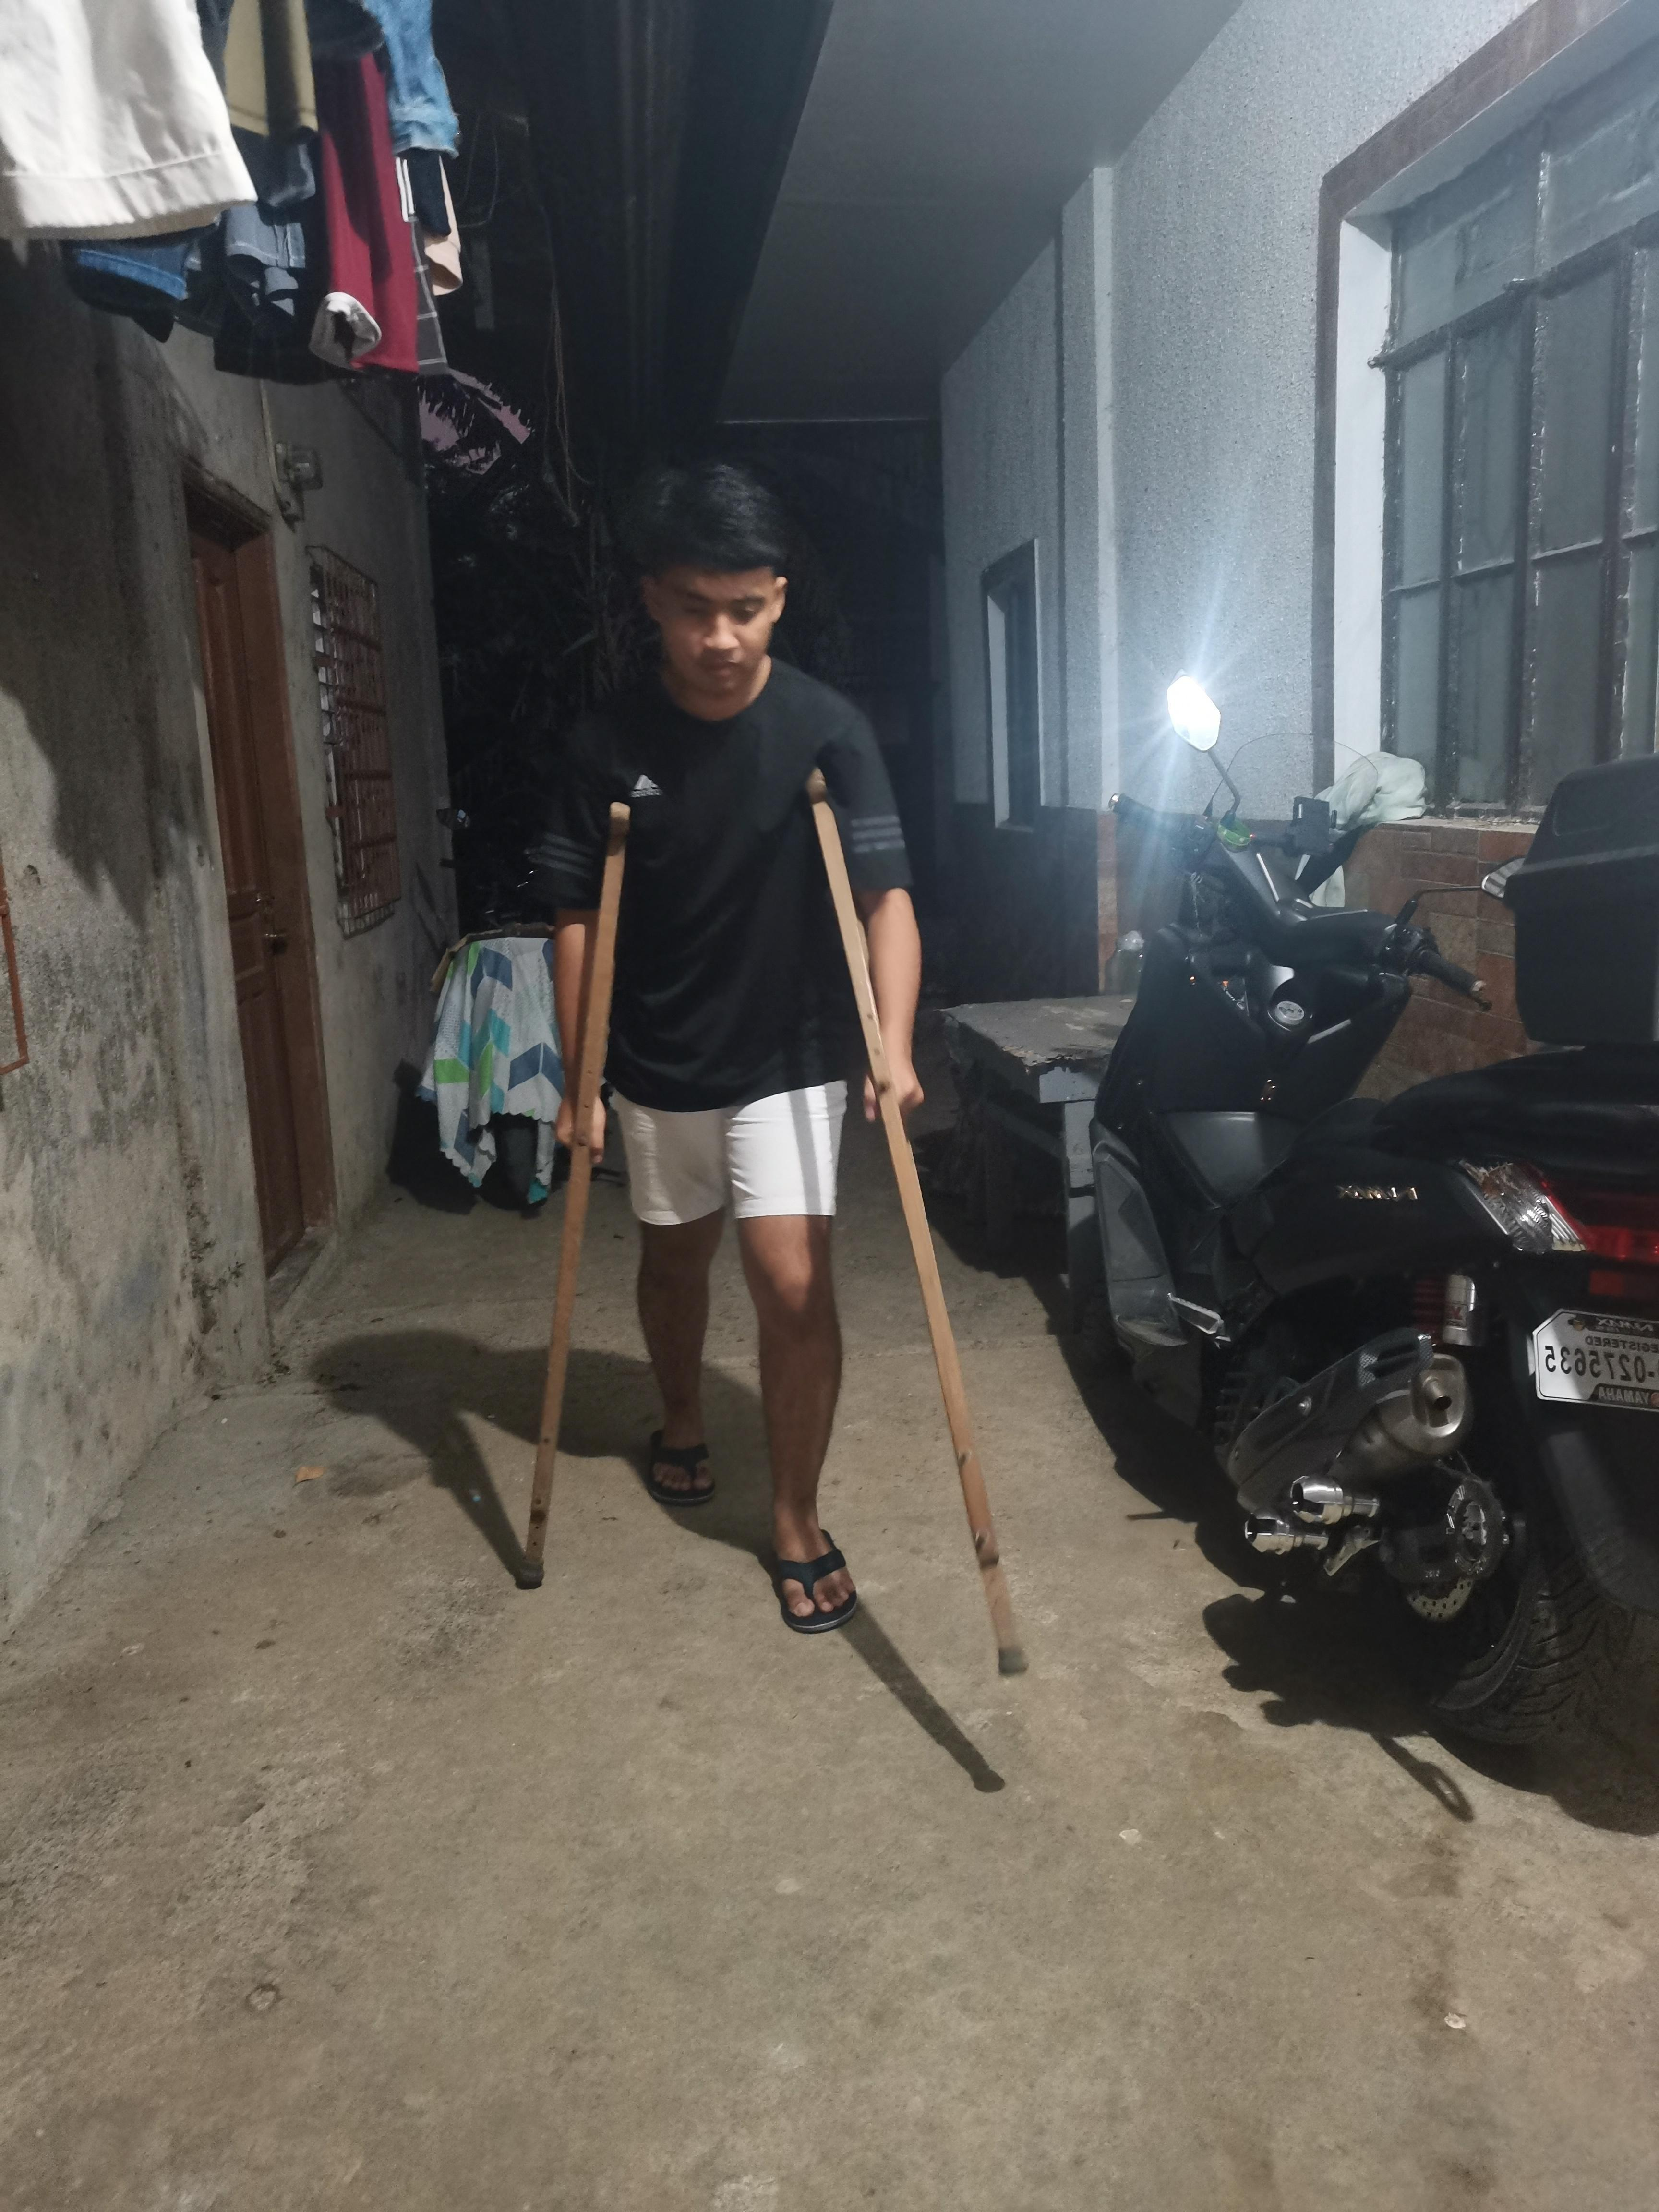crutches: (495, 434, 1040, 1696)
